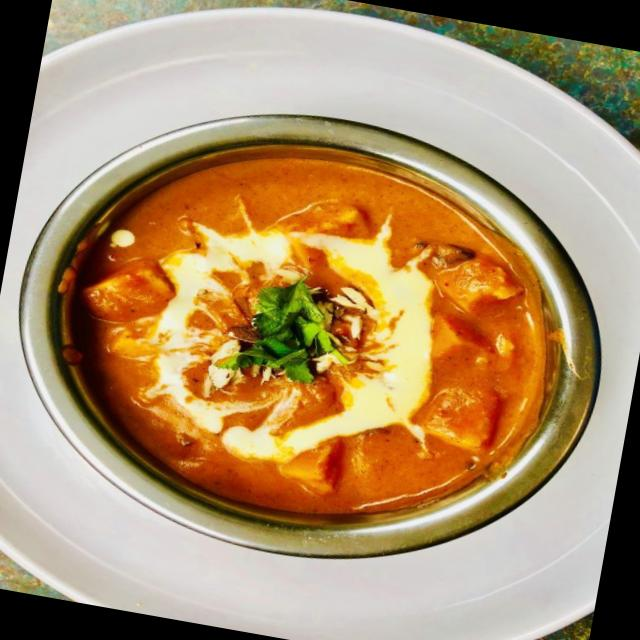ShahiPaneer: (38, 116, 580, 551)
